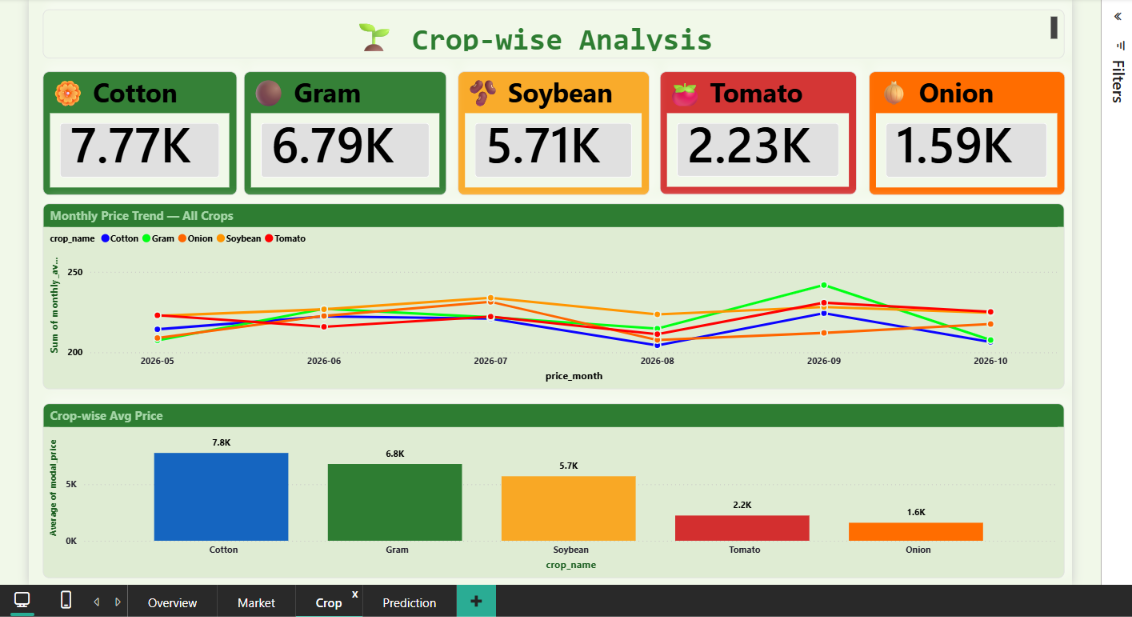

What the dashboard file says about the page in this screenshot:
{"tool":"powerbi","page":{"name":" Crop","canvas":[1280,720],"ordinal":2},"visuals":[{"type":"cardVisual","title":"🧅 Onion","fields":{"Data":["Avg(crop_prices.modal_price)"]},"box":[1030.7,89.6,240.5,152.1],"z":0},{"type":"cardVisual","title":"🍅 Tomato","fields":{"Data":["Avg(crop_prices.modal_price)"]},"box":[774.2,89.6,241.7,150.9],"z":1000},{"type":"cardVisual","title":"🫘 Soybean","fields":{"Data":["Avg(crop_prices.modal_price)"]},"box":[526.4,89.6,235.6,152.1],"z":2000},{"type":"cardVisual","title":"🏵️ Cotton","fields":{"Data":["Avg(crop_prices.modal_price)"]},"box":[17.2,89.6,238,152.1],"z":3000},{"type":"cardVisual","title":"🟤 Gram","fields":{"Data":["Avg(crop_prices.modal_price)"]},"box":[263.8,89.6,249.1,152.1],"z":4000},{"type":"lineChart","title":"Monthly Price Trend — All Crops","fields":{"Category":["crop_trends.price_month"],"Series":["crop_trends.crop_name"],"Y":["Sum(crop_trends.monthly_avg_arrivals)"]},"box":[17.2,251.5,1254,228.2],"z":5000},{"type":"clusteredColumnChart","title":" Crop-wise Avg Price","fields":{"Category":["crop_prices.crop_name"],"Y":["Avg(crop_prices.modal_price)"]},"box":[17.2,496.9,1254,214.7],"z":6000},{"type":"textbox","box":[17.2,13.5,1254,60.1],"z":7000}]}

Visuals, with their boxes on the page's 1280x720 design canvas (x1, y1, x2, y2). These are canvas units, not pixel positions in the 1132x617 screenshot, which may show the page scaled, cropped or inside an application window:
"🧅 Onion" cardVisual: {"left": 1031, "top": 90, "right": 1271, "bottom": 242}
"🍅 Tomato" cardVisual: {"left": 774, "top": 90, "right": 1016, "bottom": 240}
"🫘 Soybean" cardVisual: {"left": 526, "top": 90, "right": 762, "bottom": 242}
"🏵️ Cotton" cardVisual: {"left": 17, "top": 90, "right": 255, "bottom": 242}
"🟤 Gram" cardVisual: {"left": 264, "top": 90, "right": 513, "bottom": 242}
"Monthly Price Trend — All Crops" lineChart: {"left": 17, "top": 252, "right": 1271, "bottom": 480}
" Crop-wise Avg Price" clusteredColumnChart: {"left": 17, "top": 497, "right": 1271, "bottom": 712}
textbox: {"left": 17, "top": 14, "right": 1271, "bottom": 74}
